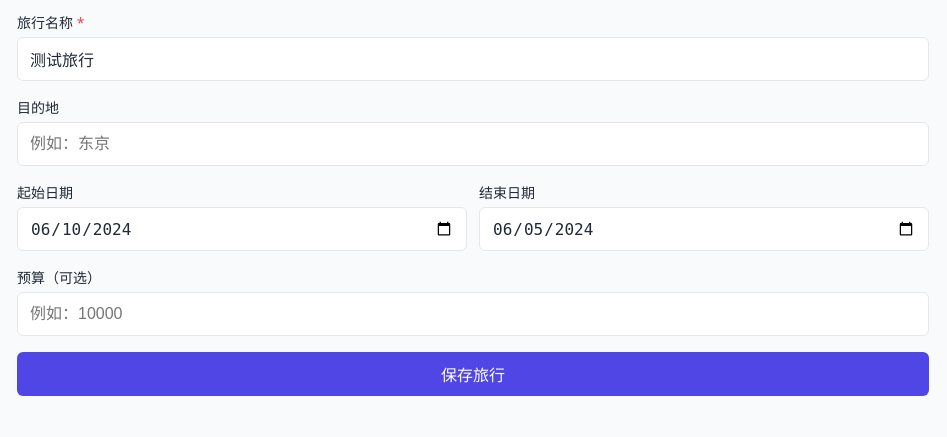
Test: TripForm › 结束日期早于起始日期时显示验证错误
Click the button "保存旅行": (473, 374) [17,352,929,396]
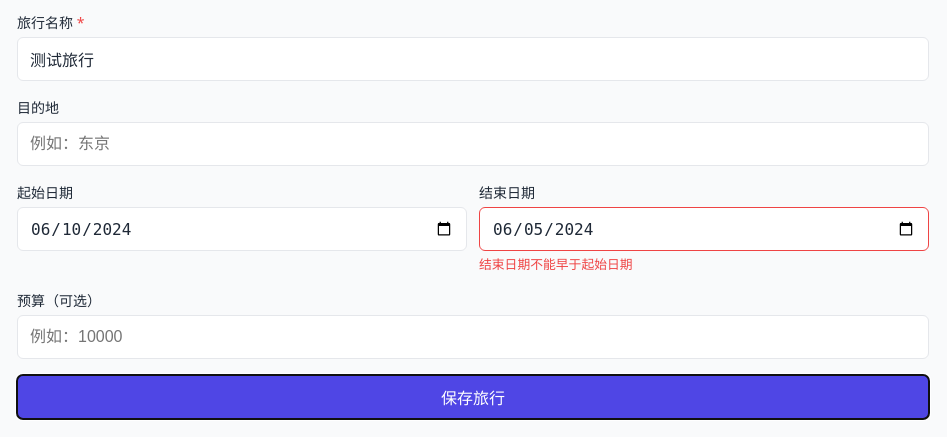
expect the text "结束日期不能早于起始日期" is shown: met, box [479,255,633,273]
